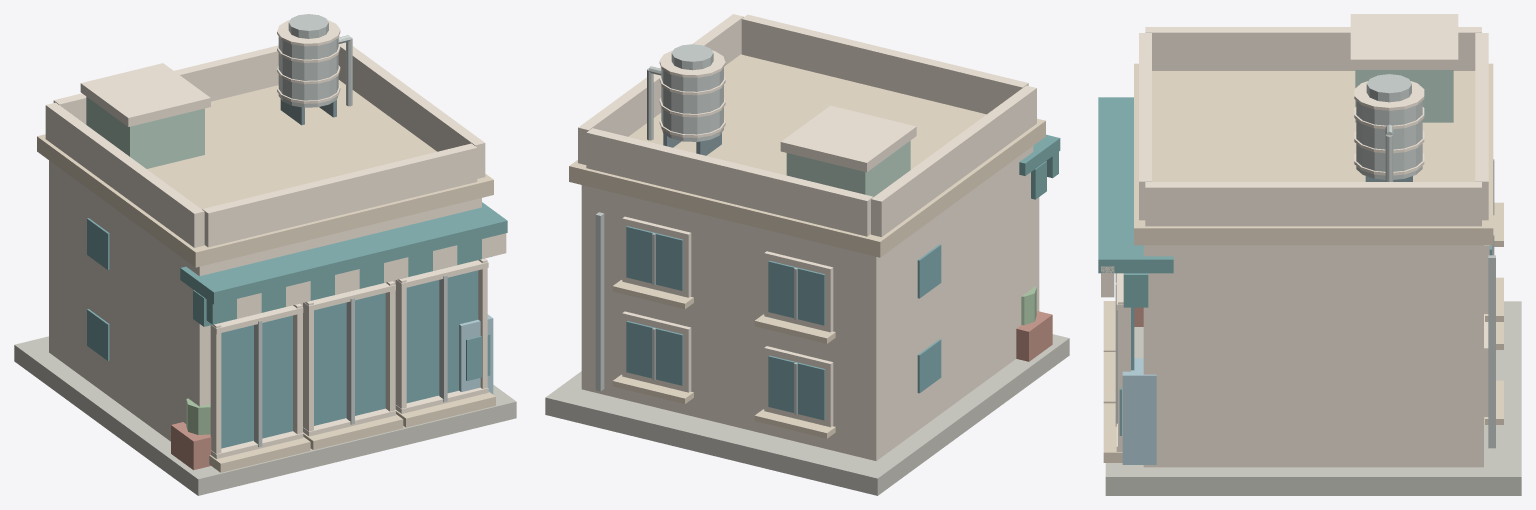
Rendered from town-store.glb.
3 views of the same model, side by side, from view 1: azimuth 30°, elevation 25°; view 2: azimuth 150°, elevation 25°; view 3: azimuth 270°, elevation 25° (orthographic). The views are drawn at different scales.
Visible parts, largest first — view 1: paving; view 2: paving; view 3: paving.
Part boxes in pixels (x1,y1,x2,y2): paving: (14, 14, 516, 495); paving: (545, 14, 1069, 495); paving: (1098, 14, 1521, 495).
Size of the model in its own units: 2.2 by 2.14 by 2.24.
1 material, 1 textured.
